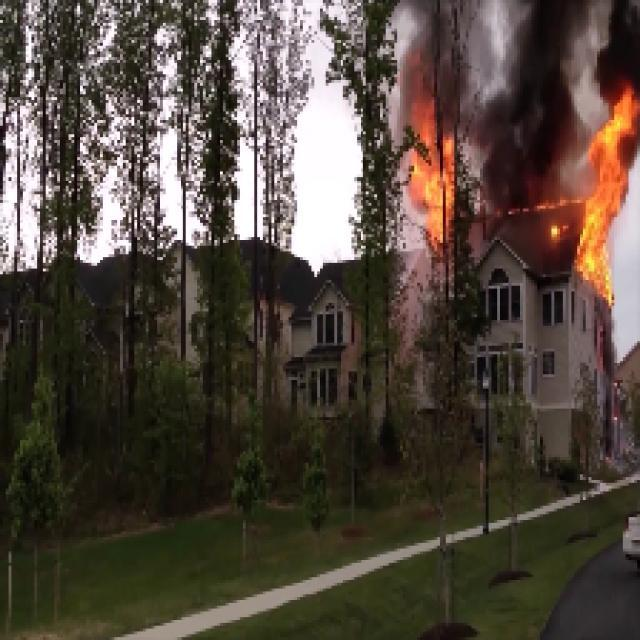Fire: (585, 99, 625, 288), (408, 130, 456, 234)
Smoke: (498, 0, 574, 190), (597, 4, 636, 74)
